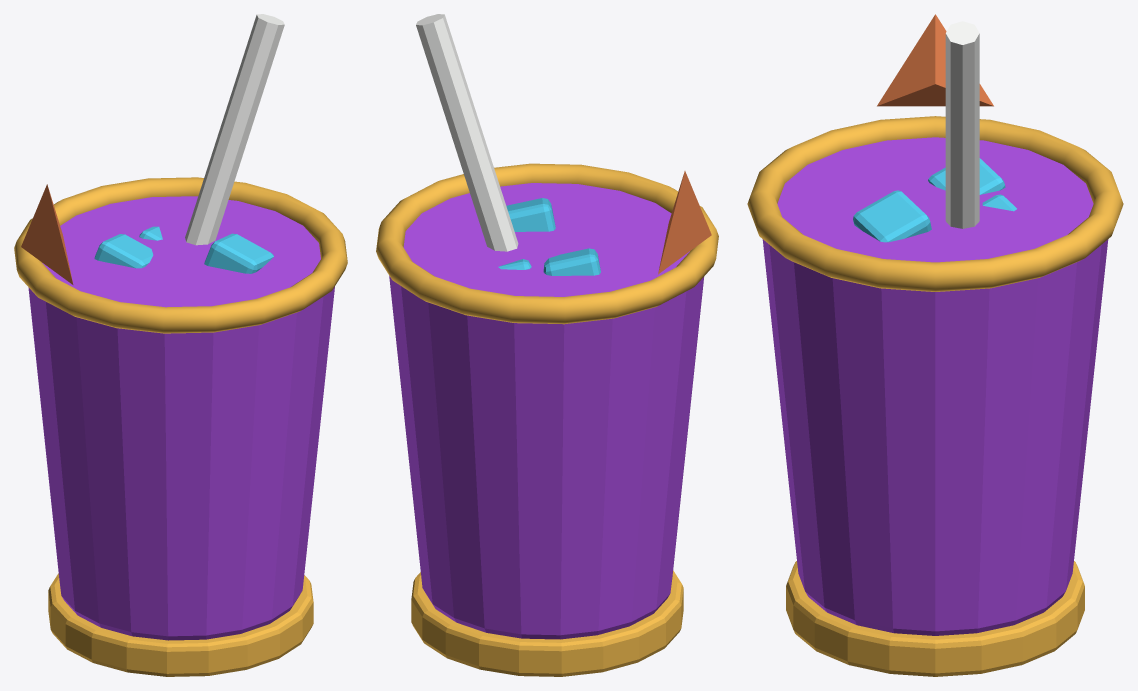
File: drink_404.glb
3 renders of one model, left to right at view 1: azimuth 30°, elevation 25°; view 2: azimuth 150°, elevation 25°; view 3: azimuth 270°, elevation 25°, orthographic. The views are drawn at different scales.
Parts seen in each view (by area): view 1: Glass, Rim, Glass foot, Straw, Warning sign, Chip ice.001, Chip ice; view 2: Glass, Rim, Glass foot, Straw, Warning sign, Chip ice.001, Chip ice; view 3: Glass, Rim, Glass foot, Straw, Warning sign, Chip ice.001, Chip ice.
Part boxes in pixels (left/top/right/bottom): Glass: left=28, top=196, right=334, bottom=640; Rim: left=14, top=177, right=347, bottom=333; Glass foot: left=48, top=573, right=313, bottom=676; Straw: left=185, top=14, right=284, bottom=245; Warning sign: left=21, top=184, right=73, bottom=284; Chip ice.001: left=204, top=233, right=273, bottom=273; Chip ice: left=94, top=234, right=153, bottom=268; Glass: left=389, top=183, right=703, bottom=639; Rim: left=376, top=163, right=718, bottom=324; Glass foot: left=411, top=570, right=683, bottom=676; Straw: left=416, top=14, right=518, bottom=251; Warning sign: left=658, top=171, right=711, bottom=274; Chip ice.001: left=506, top=198, right=555, bottom=231; Chip ice: left=543, top=248, right=600, bottom=275; Glass: left=762, top=137, right=1108, bottom=635; Rim: left=747, top=116, right=1123, bottom=291; Glass foot: left=786, top=561, right=1084, bottom=676; Straw: left=945, top=21, right=979, bottom=228; Warning sign: left=877, top=14, right=993, bottom=106; Chip ice.001: left=853, top=190, right=931, bottom=242; Chip ice: left=928, top=158, right=1005, bottom=194.
Size of the model in its own units: 0.554 by 1.05 by 0.554.
